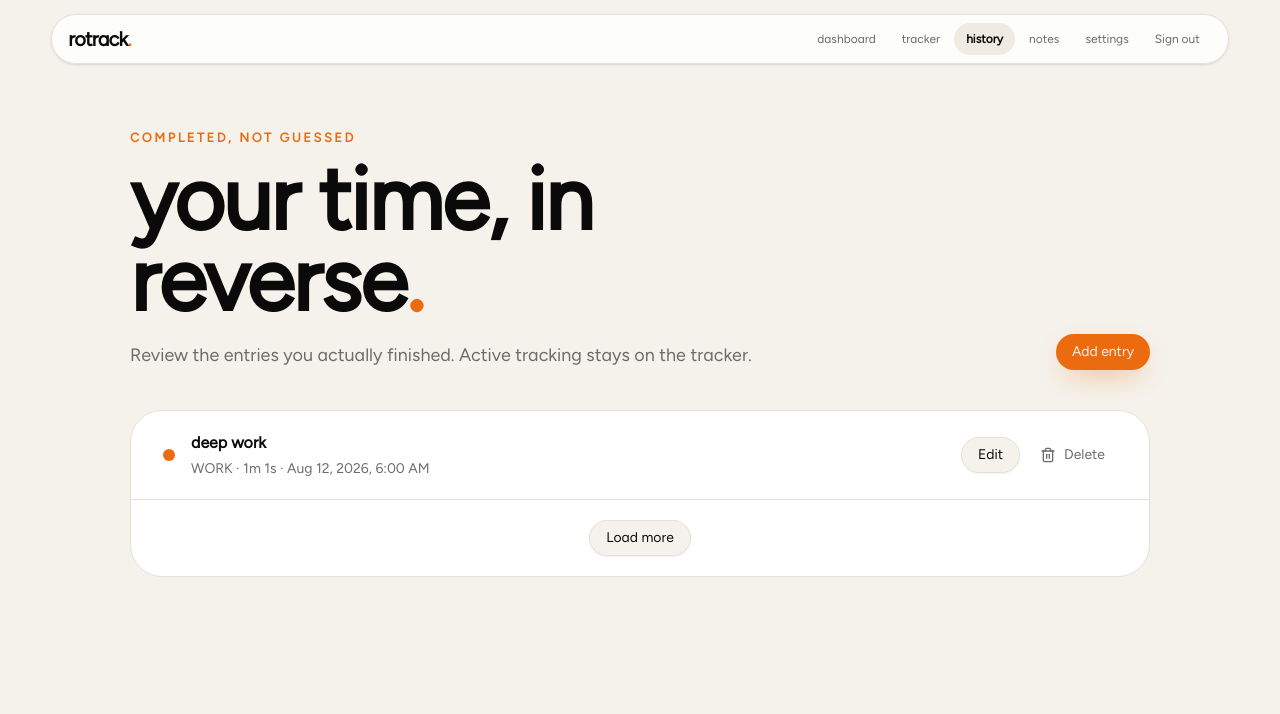
Scenario: HistoryPage › resets to page one after a mutation instead of patching stale order
Expected: the text "deep work" is shown, [191, 433, 266, 452]
Click the button "Add entry" at (1103, 352), box [1056, 334, 1150, 370]
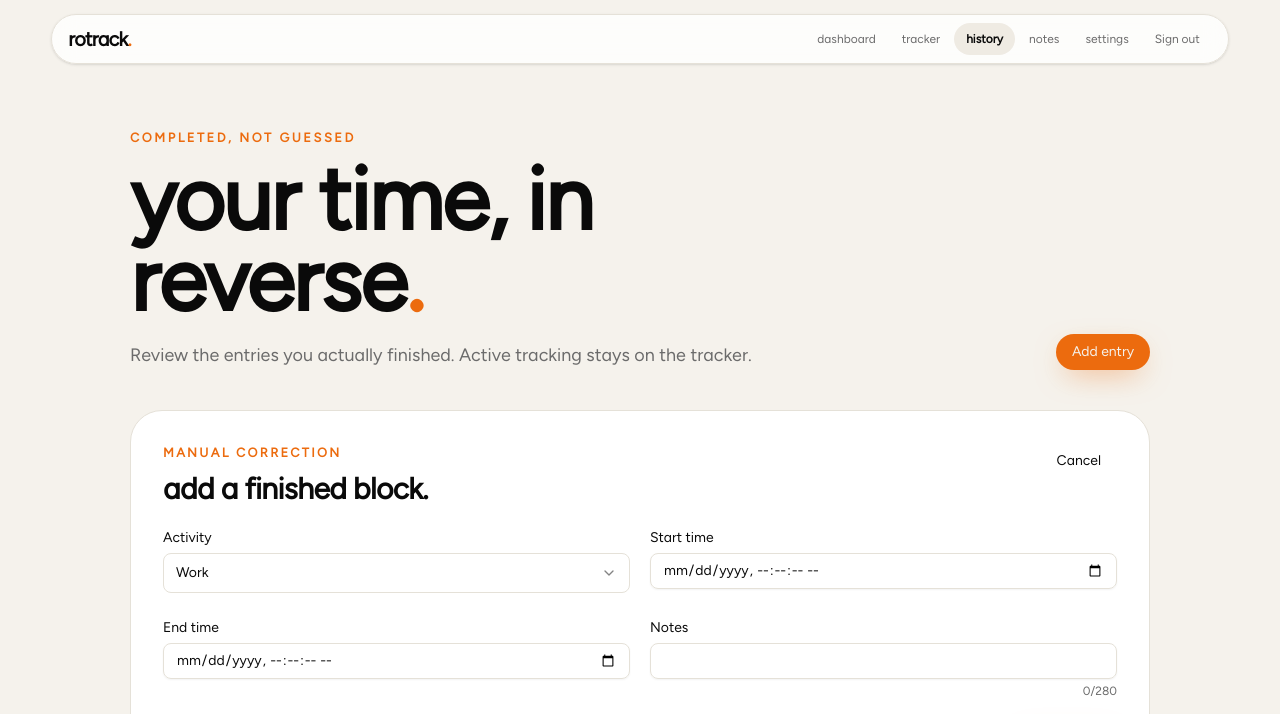
Type "2026-08-12T14:30:00" into the field labelled "Start time" at (884, 570), box [650, 552, 1117, 588]
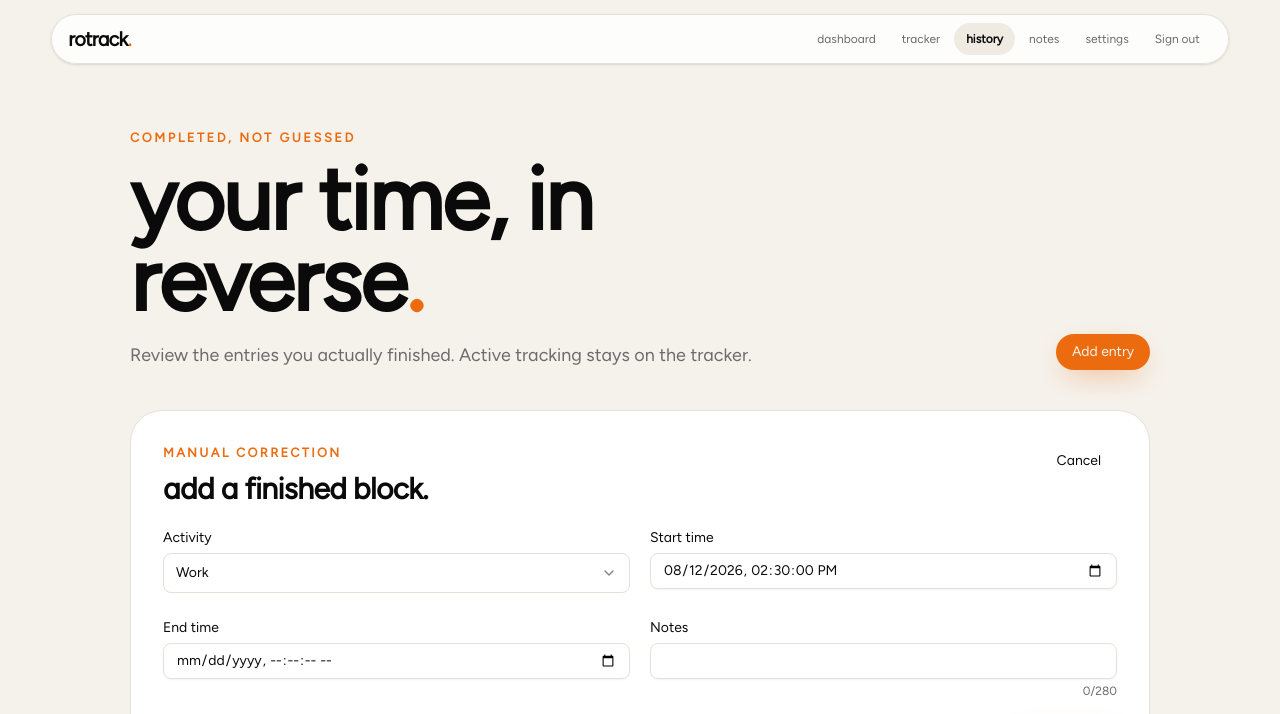
Type "2026-08-12T14:45:00" into the field labelled "End time" at (396, 660), box [163, 642, 630, 678]
(page scrolled)
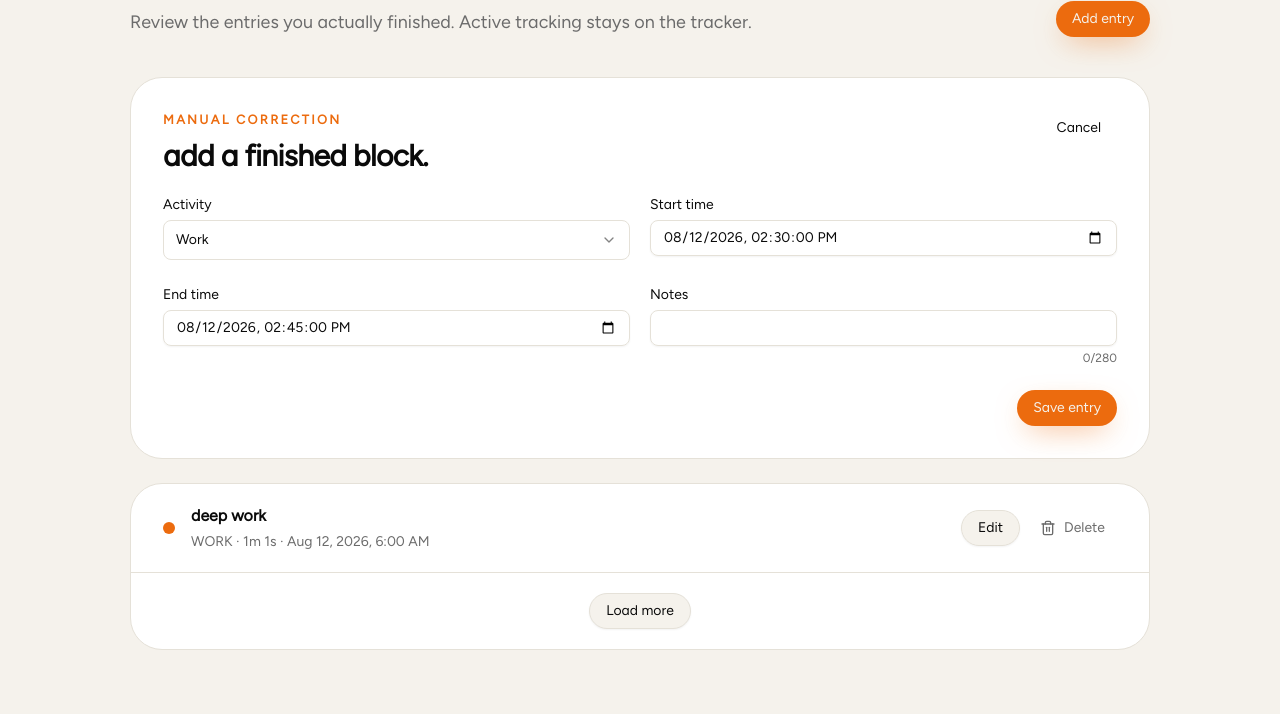
Click the button "Save entry" at (1067, 408), box [1017, 390, 1117, 426]
(page scrolled)
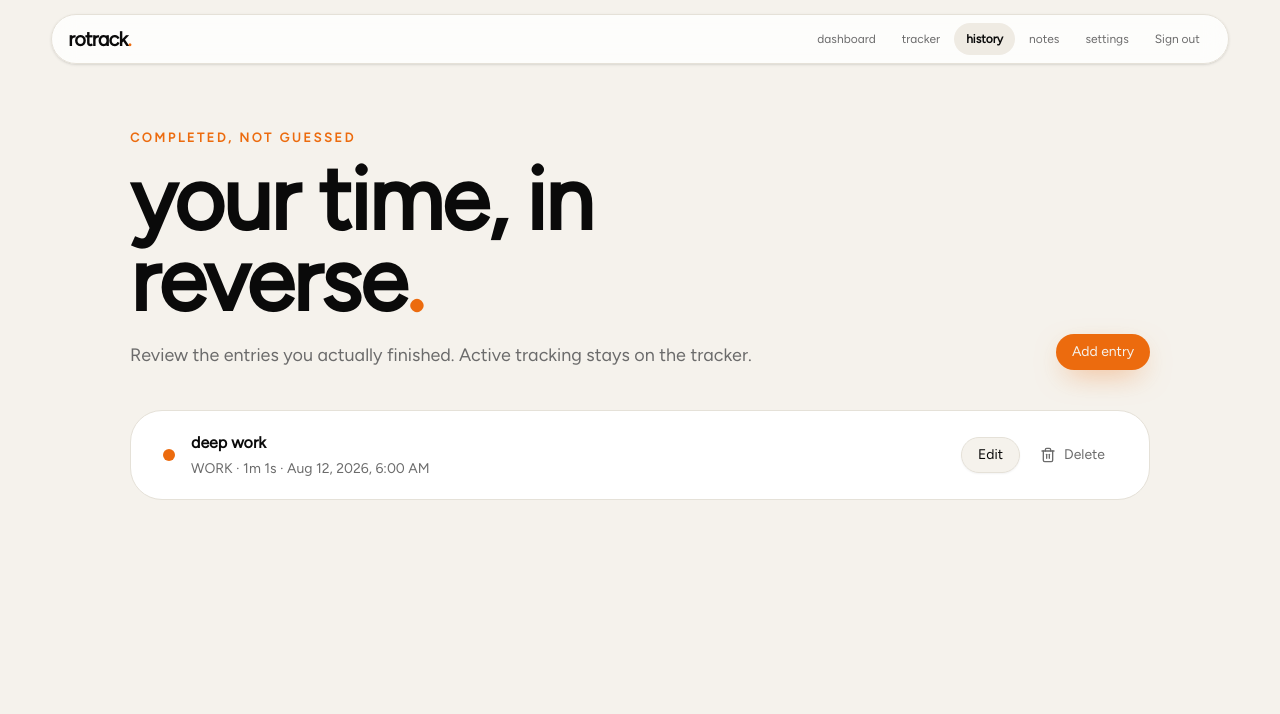
Result: the button "Load more" is gone
